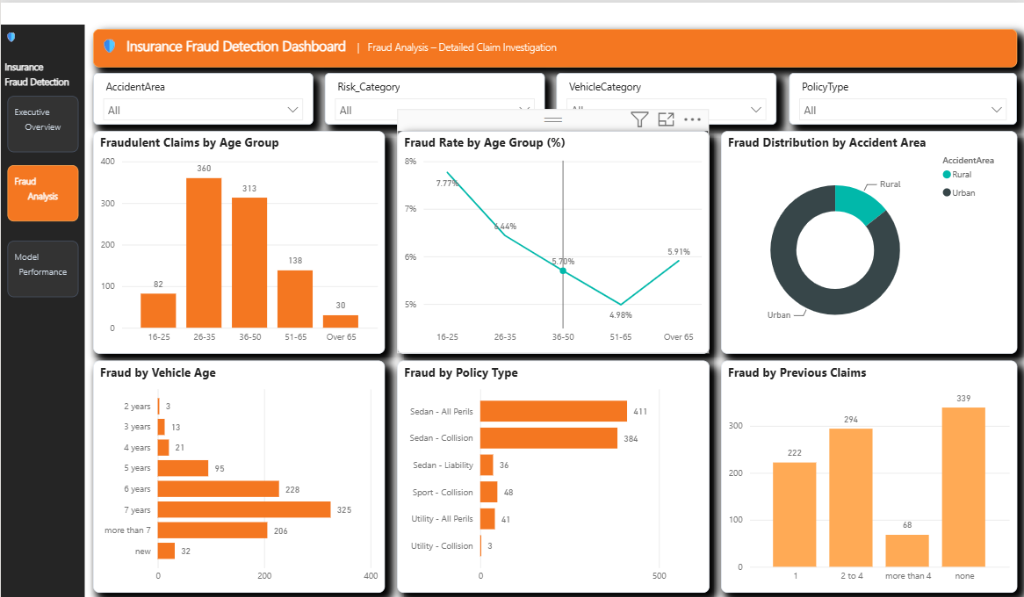

The dashboard page shown, as its layout file describes it:
{"tool":"powerbi","page":{"name":"Fraud Analysis","canvas":[1280,720],"ordinal":1},"visuals":[{"type":"textbox","box":[0,0,105,720],"z":0},{"type":"textbox","box":[8.2,89.2,89,70],"z":1000},{"type":"textbox","box":[8,175,89,70],"z":2000},{"type":"textbox","box":[8,270,89,70],"z":3000},{"type":"textbox","box":[115,6,1155,48],"z":4000},{"type":"slicer","fields":{"Values":["fraud_predictions.AccidentArea"]},"box":[115,60,275,65],"z":5000},{"type":"slicer","fields":{"Values":["fraud_predictions.Risk_Category"]},"box":[405,60,275,65],"z":6000},{"type":"slicer","fields":{"Values":["fraud_predictions.VehicleCategory"]},"box":[695,60,275,65],"z":7000},{"type":"slicer","fields":{"Values":["fraud_predictions.PolicyType"]},"box":[985,60,285,65],"z":8000},{"type":"clusteredColumnChart","title":"Fraudulent Claims by Age Group","fields":{"Category":["fraud_predictions.Age_Group"],"Y":["fraud_predictions.Fraudulent Claims"]},"box":[115,133,365,278],"z":9000},{"type":"lineChart","title":"Fraud Rate by Age Group (%)","fields":{"Category":["fraud_predictions.Age_Group"],"Y":["fraud_predictions.Fraud Rate"]},"box":[495,133,390,278],"z":10000},{"type":"donutChart","title":"Fraud Distribution by Accident Area","fields":{"Category":["fraud_predictions.AccidentArea"],"Y":["fraud_predictions.Fraudulent Claims"]},"box":[900,133,370,278],"z":11000},{"type":"clusteredBarChart","title":"Fraud by Vehicle Age","fields":{"Category":["fraud_predictions.AgeOfVehicle"],"Y":["fraud_predictions.Fraudulent Claims"]},"box":[115,420,365,290],"z":12000},{"type":"clusteredBarChart","title":"Fraud by Policy Type","fields":{"Category":["fraud_predictions.PolicyType"],"Y":["fraud_predictions.Fraudulent Claims"]},"box":[495,420,390,290],"z":13000},{"type":"clusteredColumnChart","title":"Fraud by Previous Claims","fields":{"Category":["fraud_predictions.PastNumberOfClaims"],"Y":["fraud_predictions.Fraudulent Claims"]},"box":[900,420,370,290],"z":14000}]}

Visuals, with their boxes in screenshot pixels (x1, y1, x2, y2):
textbox: box(0, 24, 83, 592)
textbox: box(6, 94, 77, 150)
textbox: box(6, 162, 77, 217)
textbox: box(6, 237, 77, 292)
textbox: box(91, 29, 1002, 67)
slicer - fraud_predictions.AccidentArea: box(91, 71, 308, 123)
slicer - fraud_predictions.Risk_Category: box(320, 71, 536, 123)
slicer - fraud_predictions.VehicleCategory: box(548, 71, 765, 123)
slicer - fraud_predictions.PolicyType: box(777, 71, 1002, 123)
"Fraudulent Claims by Age Group" clusteredColumnChart: box(91, 129, 379, 348)
"Fraud Rate by Age Group (%)" lineChart: box(391, 129, 698, 348)
"Fraud Distribution by Accident Area" donutChart: box(710, 129, 1002, 348)
"Fraud by Vehicle Age" clusteredBarChart: box(91, 355, 379, 584)
"Fraud by Policy Type" clusteredBarChart: box(391, 355, 698, 584)
"Fraud by Previous Claims" clusteredColumnChart: box(710, 355, 1002, 584)
